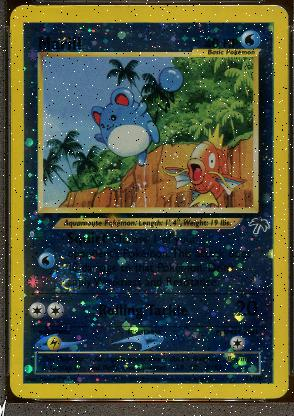Card: (7, 2, 291, 400), (263, 3, 284, 9), (219, 3, 236, 7)
